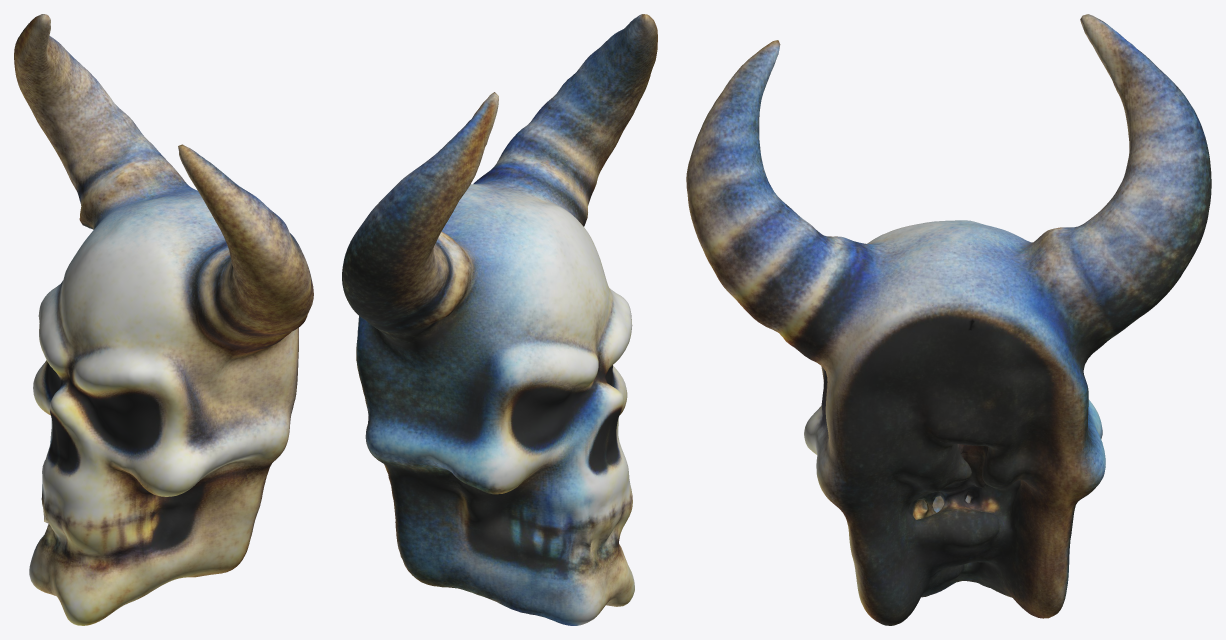
File: demon_skull_2.glb
3 views of the same model, side by side, from view 1: azimuth 30°, elevation 25°; view 2: azimuth 150°, elevation 25°; view 3: azimuth 270°, elevation 25° (orthographic). The views are drawn at different scales.
Parts seen in each view (by area): view 1: Mesh1; view 2: Mesh1; view 3: Mesh1.
Boxes of the visible parts, left/top/right/bottom form: Mesh1: left=14, top=14, right=313, bottom=625; Mesh1: left=342, top=14, right=657, bottom=625; Mesh1: left=686, top=14, right=1211, bottom=625.
Size of the model in its own units: 0.4937 by 1.2 by 0.9588.
1 material, 1 textured.
